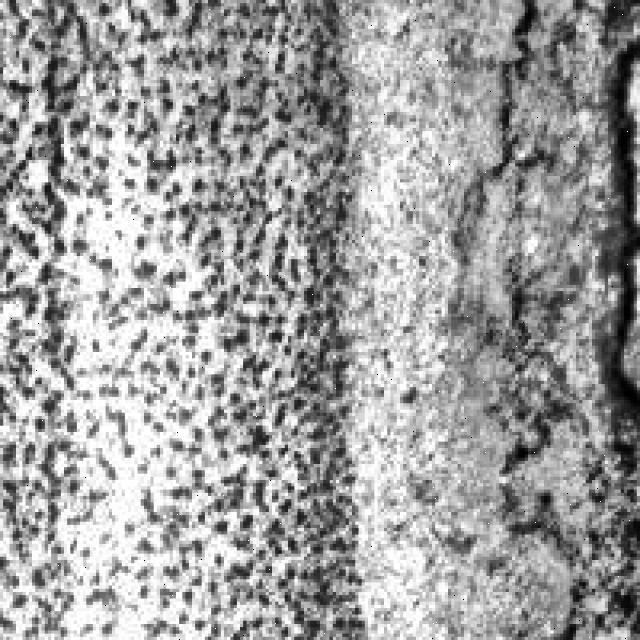Rolled_in_Scale: (3, 0, 364, 637), (461, 0, 605, 611)
